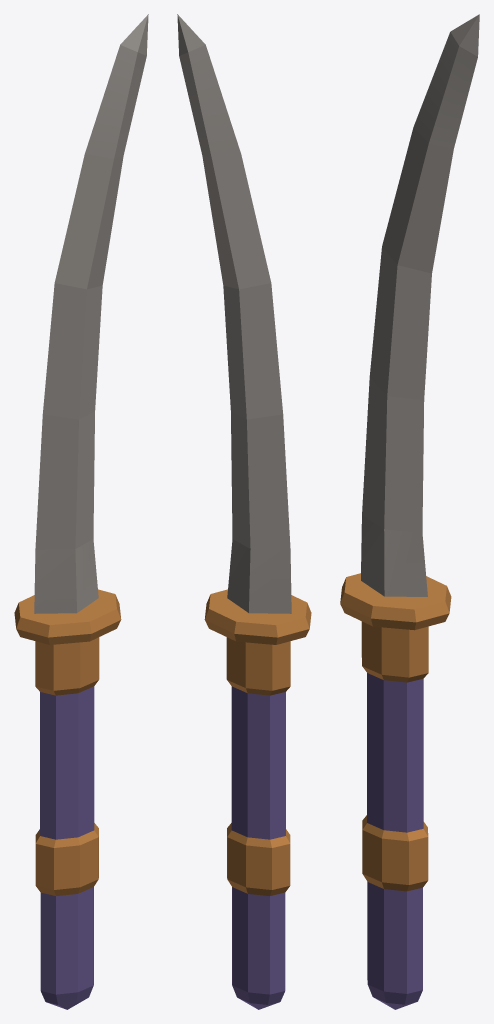
File: SM_pwe_china_dagger_01.fbx
The picture shows the model from 3 angles, left to right: view 1: azimuth 30°, elevation 25°; view 2: azimuth 150°, elevation 25°; view 3: azimuth 330°, elevation 25°; orthographic projection. The views are drawn at different scales.
Parts seen in each view (by area): view 1: SM_pwe_china_dagger_01; view 2: SM_pwe_china_dagger_01; view 3: SM_pwe_china_dagger_01.
Boxes of the visible parts, x1=… form: SM_pwe_china_dagger_01: x1=14, y1=14, x2=148, y2=1009; SM_pwe_china_dagger_01: x1=177, y1=14, x2=311, y2=1009; SM_pwe_china_dagger_01: x1=340, y1=14, x2=479, y2=1009.
Bounding box in the file's own units: 6.81 × 48.03 × 4.26.
